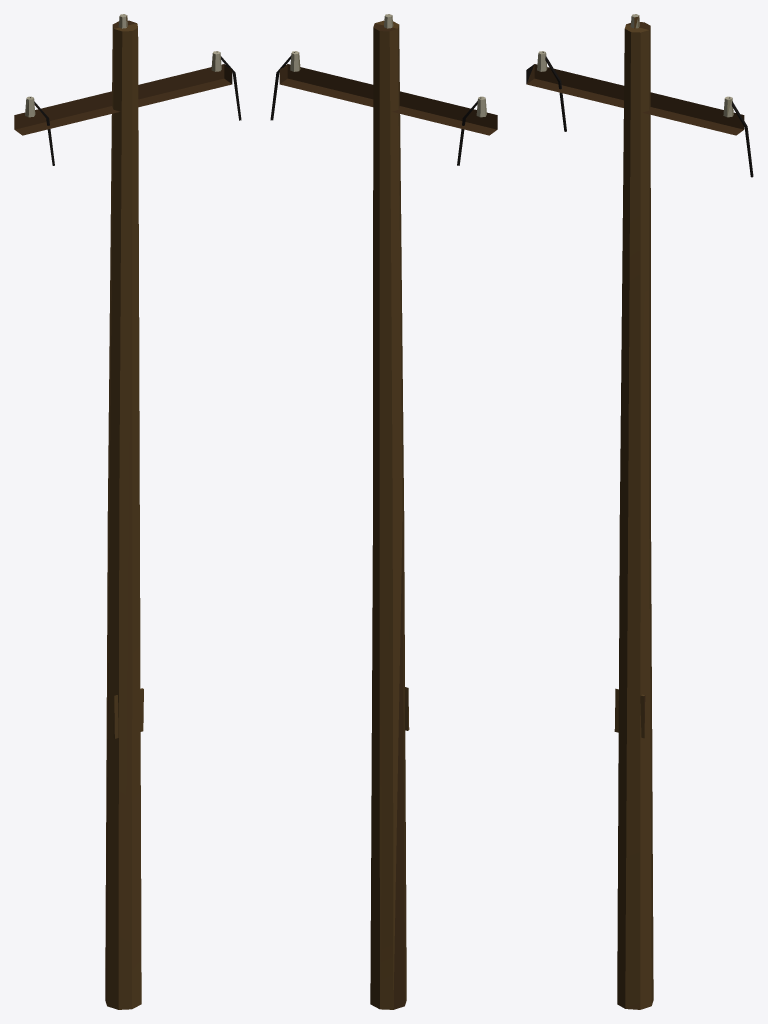
Rendered from bg_industrial_pole_1_lod2.glb.
3 views of the same model, side by side, from view 1: azimuth 30°, elevation 25°; view 2: azimuth 150°, elevation 25°; view 3: azimuth 330°, elevation 25° (orthographic).
Visible parts, largest first — view 1: body; view 2: body; view 3: body.
Boxes of the visible parts, <box> form: body: <box>14,14,241,1009</box>; body: <box>270,14,497,1009</box>; body: <box>526,14,753,1009</box>.
Bounding box in the file's own units: 1.91 × 8.09 × 0.28.
